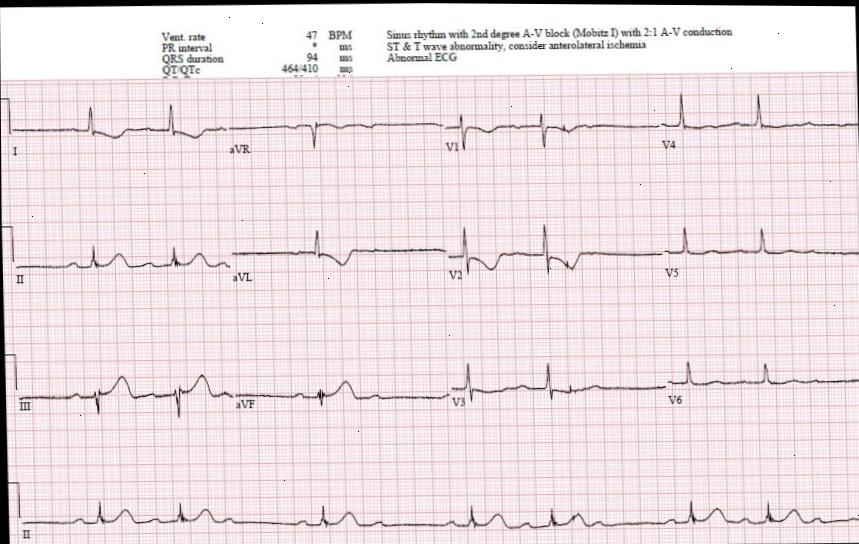Lead_I: (7, 99, 225, 170)
Lead_II: (10, 224, 230, 294)
Lead_III: (14, 353, 234, 429)
Lead_II_ext: (16, 467, 859, 544)
Lead_V1: (439, 94, 660, 162)
Lead_V2: (443, 209, 663, 290)
Lead_V3: (445, 346, 666, 426)
Lead_V4: (658, 78, 858, 172)
Lead_V5: (660, 209, 859, 292)
Lead_V6: (663, 340, 859, 426)
Lead_aVF: (232, 357, 450, 426)
Lead_aVL: (230, 215, 446, 293)
Lead_aVR: (223, 106, 445, 165)
